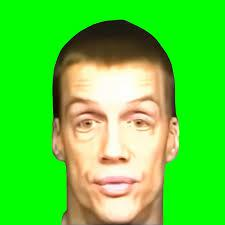mewing: (52, 30, 177, 223)
